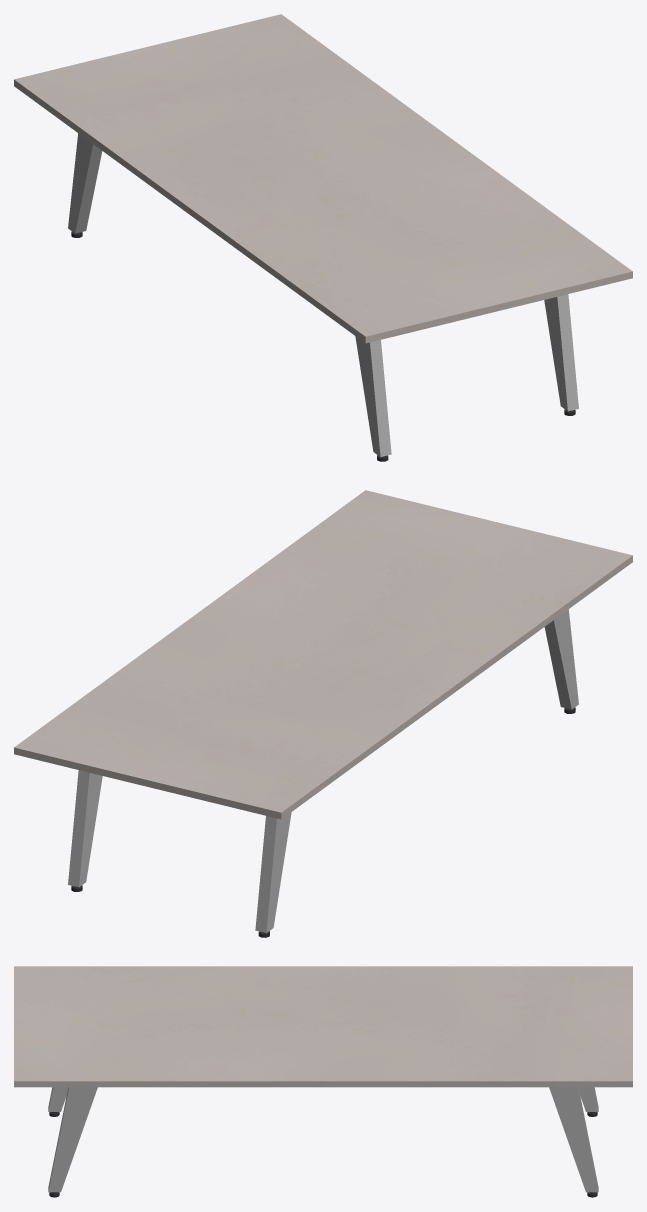
Rendered from Table.glb.
3 renders of one model, top to bottom at view 1: azimuth 30°, elevation 25°; view 2: azimuth 150°, elevation 25°; view 3: azimuth 270°, elevation 25°, orthographic. The views are drawn at different scales.
Visible parts, largest first — view 1: Table; view 2: Table; view 3: Table.
Boxes of the visible parts, left/top/right/bottom form: Table: left=14, top=14, right=632, bottom=461; Table: left=14, top=490, right=632, bottom=937; Table: left=14, top=966, right=632, bottom=1197.
Size of what is drawn, in the model's own units: 1.14 by 0.6089 by 2.6.
Materials: 3 (1 with a texture image).
